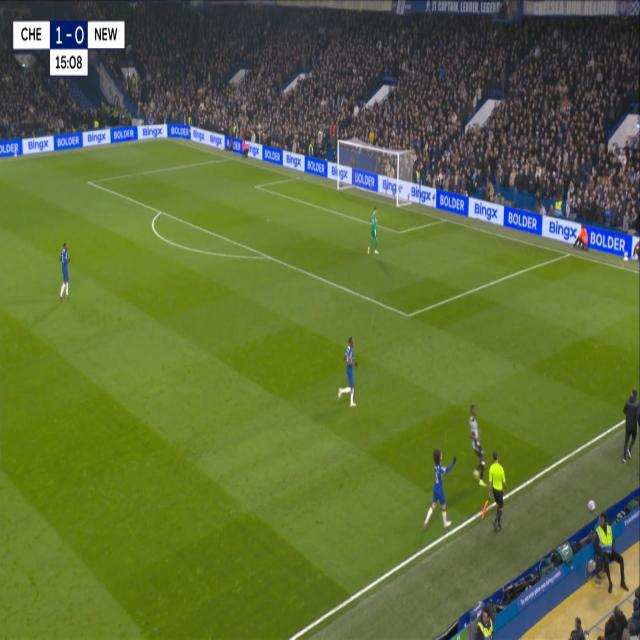Ball: (587, 498, 596, 512)
Chelsea: (421, 442, 459, 534), (58, 237, 71, 306)
Chelsea keeper: (366, 200, 382, 266)
New castle: (336, 332, 360, 412), (466, 398, 486, 494)
Refree: (484, 446, 508, 534)
